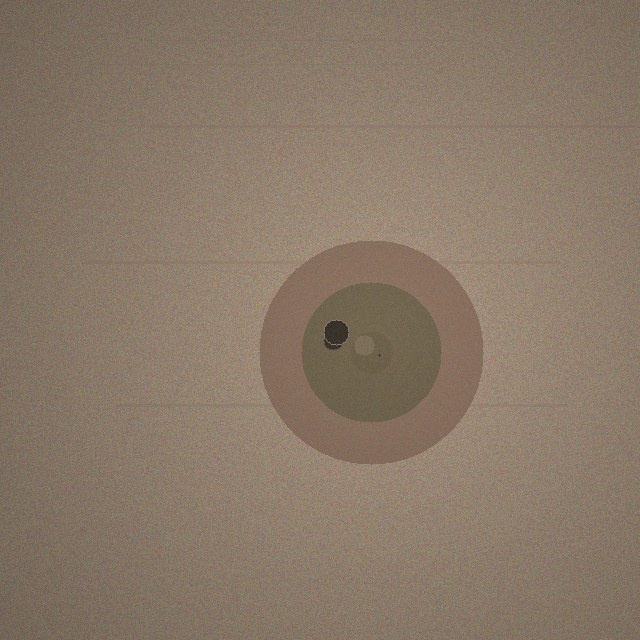shrinkage: (259, 240, 483, 464)
